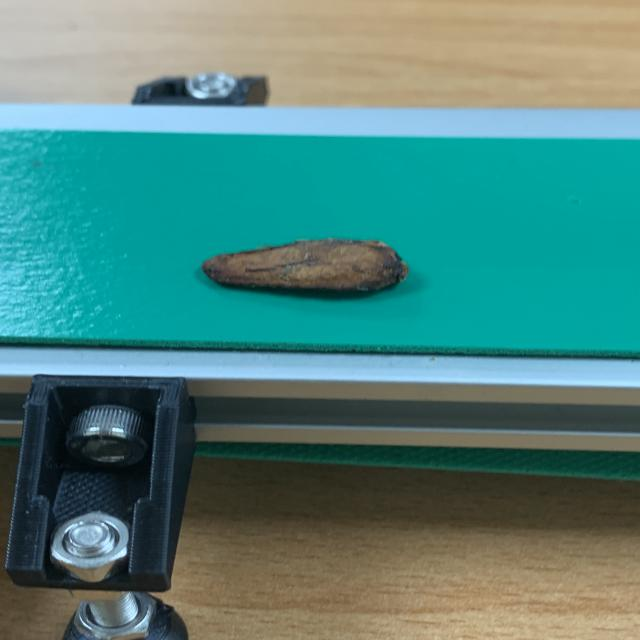Flat_cocoabeans: (160, 208, 450, 322)
